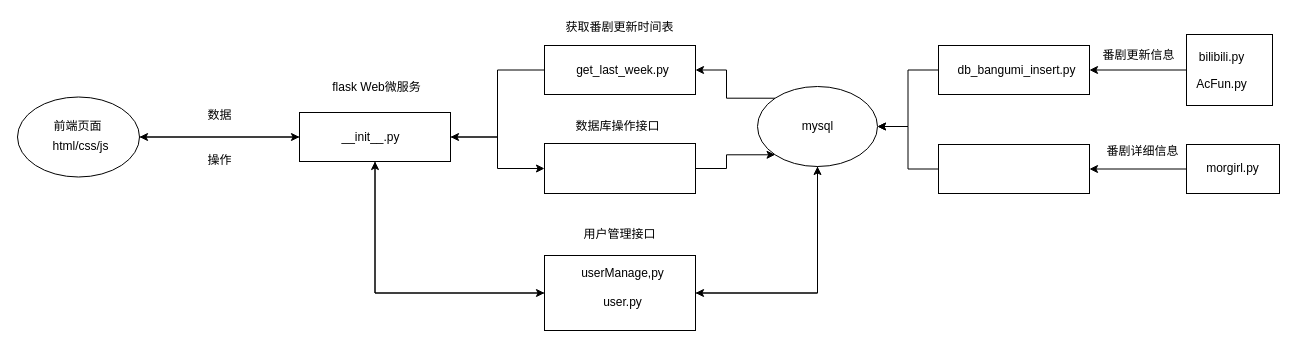
Image size: 1297x348. Some labels were removed from this diagram. Here are the shapes that lost their labels. From the top down, the centre of each, then its label:
At pixel 620 168: "databaseCURD.py".
At pixel 1014 169: "dbBangumiInfoInsert.py".
